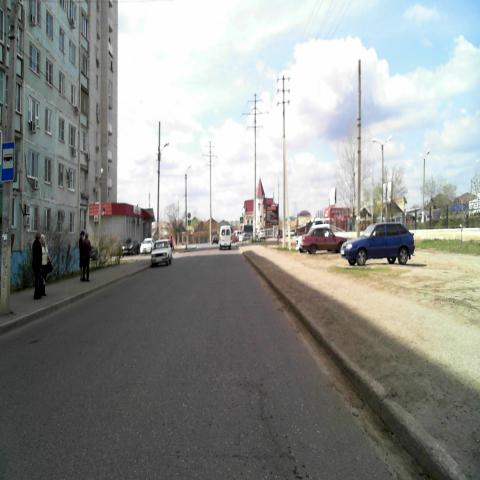5_16: (1, 142, 14, 183)
